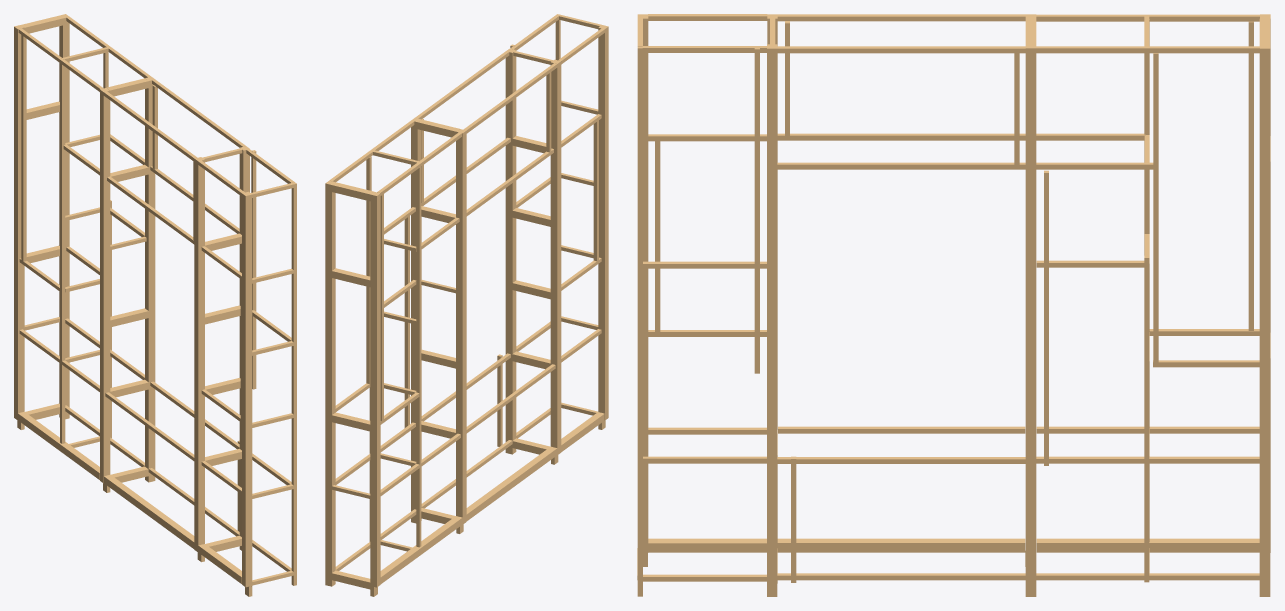
The model's file is ZahariyMK.gltf.
3 renders of one model, left to right at view 1: azimuth 30°, elevation 25°; view 2: azimuth 150°, elevation 25°; view 3: azimuth 270°, elevation 25°, orthographic. The views are drawn at different scales.
Visible parts, largest first — view 1: Cube.137, Cube.136, Cube.135, Cube.143, Cube.130, Cube.138, Cube.139, Cube.133, Cube.149, Cube.195, Cube.144, Cube.196 (+26 smaller); view 2: Cube.136, Cube.130, Cube.144, Cube.139, Cube.135, Cube.137, Cube.143, Cube.133, Cube.195, Cube.196, Cube.147, Cube.173 (+28 smaller); view 3: Cube.143, Cube.139, Cube.144, Cube.195, Cube.138, Cube.196, Cube.137, Cube.146, Cube.157, Cube.163, Cube.131, Cube.197 (+24 smaller).
Part boxes in pixels (x1,y1,x2,y2): Cube.137: (242,191,252,596); Cube.136: (194,157,204,562); Cube.135: (100,88,110,492); Cube.143: (145,76,155,482); Cube.130: (14,25,24,429); Cube.138: (291,182,296,585); Cube.139: (59,14,69,419); Cube.133: (60,63,65,443); Cube.149: (21,35,26,261); Cube.195: (104,474,194,548); Cube.144: (239,146,249,550); Cube.196: (18,411,99,479); Cube.136: (550,59,561,464); Cube.130: (370,191,380,596); Cube.144: (505,48,516,454); Cube.139: (325,180,335,586); Cube.135: (456,129,466,533); Cube.137: (598,25,608,429); Cube.143: (411,118,421,523); Cube.133: (416,167,421,547); Cube.195: (466,446,557,520); Cube.196: (380,516,462,583); Cube.147: (404,216,409,427); Cube.173: (366,156,371,383); Cube.143: (1025,44,1036,596); Cube.139: (1259,44,1270,596); Cube.144: (767,44,777,596); Cube.195: (777,538,1025,552); Cube.138: (637,46,642,596); Cube.196: (1036,538,1259,552); Cube.137: (637,14,648,566); Cube.146: (777,162,1153,169); Cube.157: (777,133,1145,140); Cube.163: (777,46,1025,53); Cube.131: (777,14,1025,21); Cube.197: (778,426,1025,433).
Bounding box in the file's own units: 0.3218 × 2.3 × 2.41.
